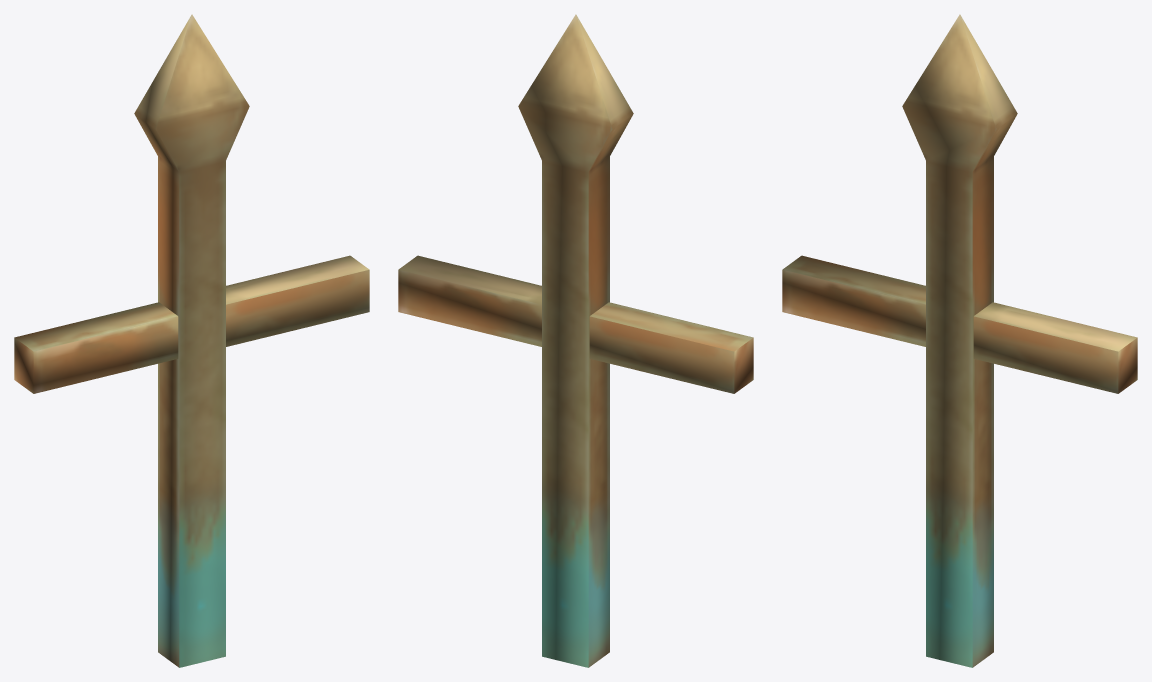
Rendered from unity_dungeon_deco02.FBX.
3 views of the same model, side by side, from view 1: azimuth 30°, elevation 25°; view 2: azimuth 150°, elevation 25°; view 3: azimuth 330°, elevation 25° (orthographic).
Visible parts, largest first — view 1: unity_dungeon_deco02; view 2: unity_dungeon_deco02; view 3: unity_dungeon_deco02.
Part boxes in pixels (x1=…): unity_dungeon_deco02: x1=14, y1=14, x2=369, y2=667; unity_dungeon_deco02: x1=398, y1=14, x2=753, y2=667; unity_dungeon_deco02: x1=782, y1=14, x2=1137, y2=667.
Bounding box in the file's own units: 1.83 × 3.33 × 0.2023.
